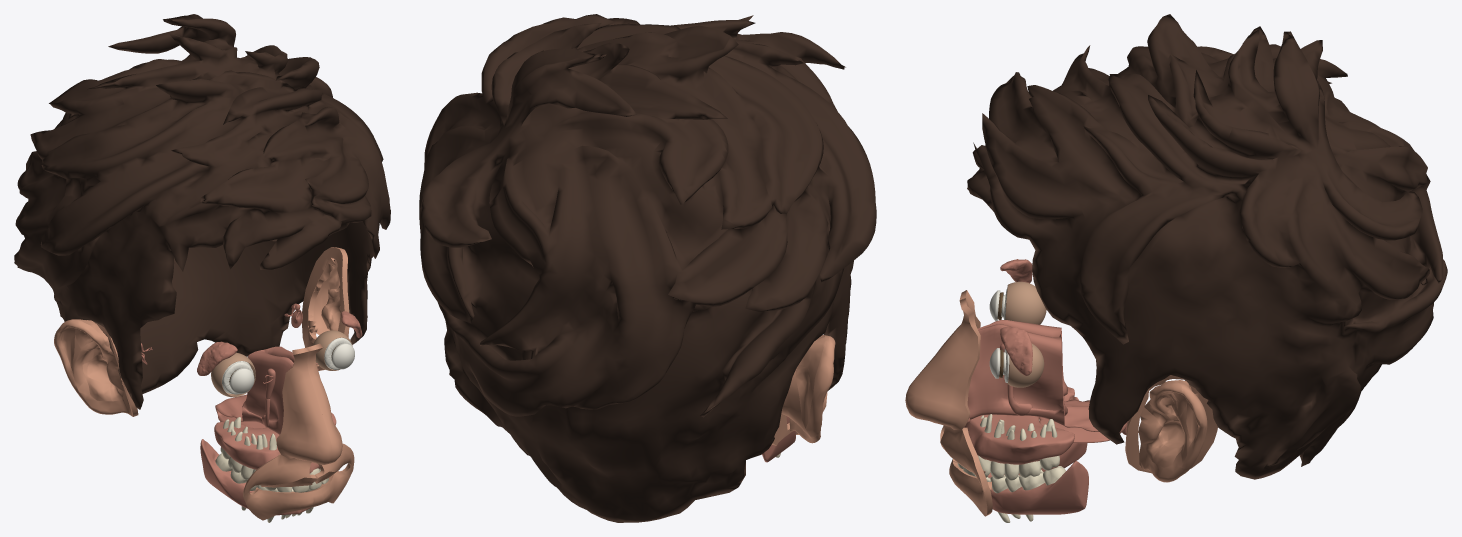
The model's file is head-detail.glb.
3 views of the same model, side by side, from view 1: azimuth 30°, elevation 25°; view 2: azimuth 150°, elevation 25°; view 3: azimuth 270°, elevation 25° (orthographic). The views are drawn at different scales.
Parts seen in each view (by area): view 1: hair_scalp, auricle_r, nose_surface_r, auricle_l, gingiva, oral_surface_r, nasal_mucosa, oral_surface_l, nose_surface_l, lacrimal_gland_r, soft_palate, retina_r (+3 smaller); view 2: hair_scalp, auricle_r; view 3: hair_scalp, gingiva, auricle_l, nasal_mucosa, nose_surface_l, oral_surface_l, retina_r, soft_palate, lacrimal_gland_l, retina_l.
Part boxes in pixels (left/top/right/bottom): hair_scalp: left=14, top=14, right=390, bottom=409; auricle_r: left=54, top=319, right=138, bottom=416; nose_surface_r: left=276, top=347, right=332, bottom=464; auricle_l: left=302, top=247, right=349, bottom=370; gingiva: left=200, top=413, right=336, bottom=515; oral_surface_r: left=243, top=453, right=317, bottom=520; nasal_mucosa: left=242, top=346, right=294, bottom=434; oral_surface_l: left=310, top=443, right=354, bottom=507; nose_surface_l: left=306, top=343, right=342, bottom=463; lacrimal_gland_r: left=197, top=341, right=237, bottom=375; soft_palate: left=215, top=394, right=265, bottom=428; retina_r: left=211, top=352, right=255, bottom=397; hair_scalp: left=419, top=14, right=876, bottom=522; auricle_r: left=772, top=335, right=835, bottom=445; hair_scalp: left=967, top=14, right=1447, bottom=479; gingiva: left=964, top=387, right=1088, bottom=514; auricle_l: left=1125, top=375, right=1217, bottom=482; nasal_mucosa: left=967, top=319, right=1067, bottom=425; nose_surface_l: left=905, top=298, right=980, bottom=429; oral_surface_l: left=940, top=425, right=992, bottom=516; retina_r: left=1005, top=281, right=1046, bottom=324; soft_palate: left=1039, top=399, right=1127, bottom=443; lacrimal_gland_l: left=1000, top=326, right=1032, bottom=375; retina_l: left=1007, top=343, right=1044, bottom=387.
Size of the model in its own units: 0.1963 by 0.2417 by 0.2483.
